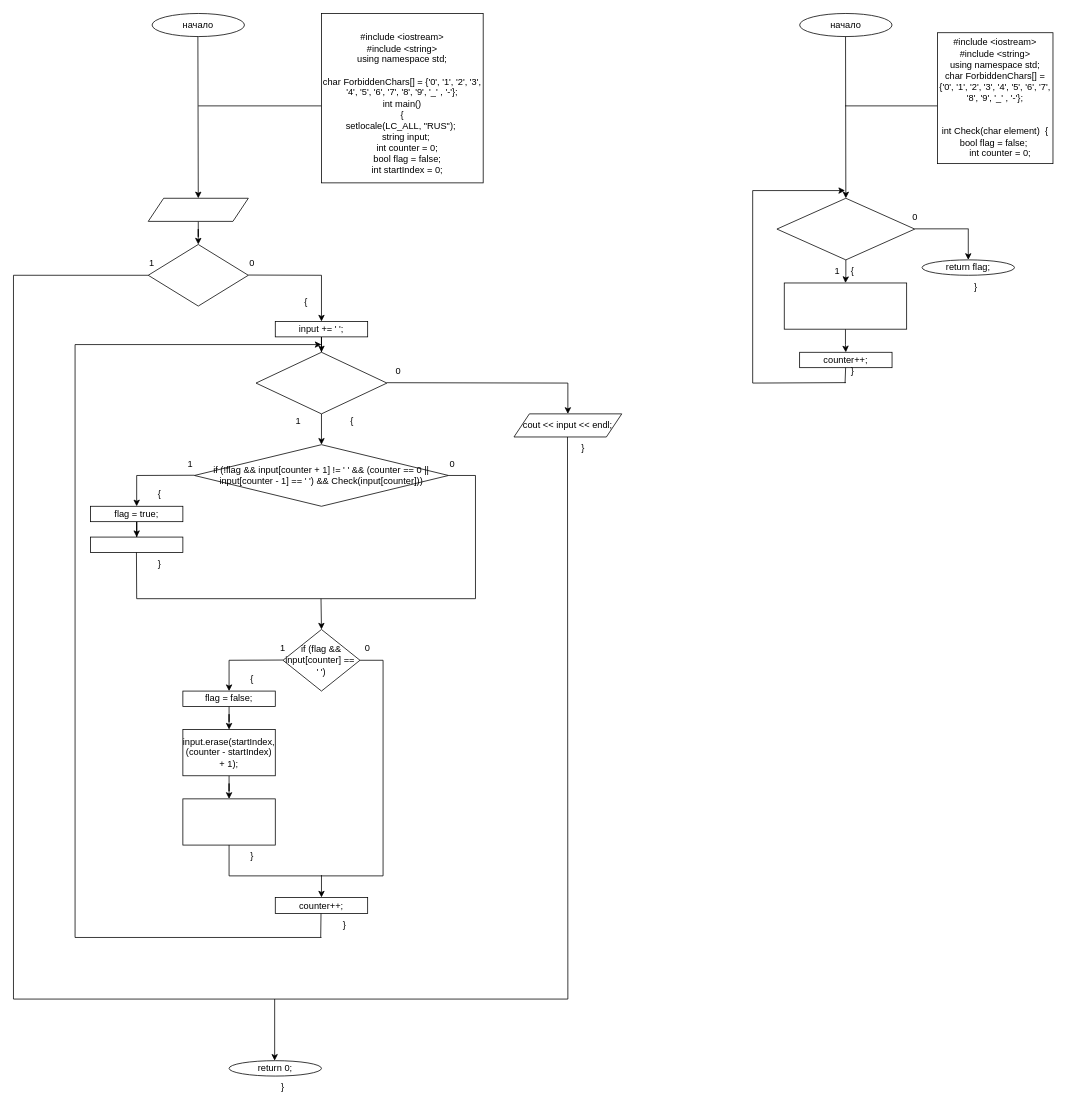
The diagram is 1066 pixels wide and 1113 high, and some of its shapes have lost their labels. Each missing label, with the box of its shape:
counter -= (counter - startIndex) + 1;: (182, 798, 275, 845)
flag = ForbiddenChars[counter] == element;: (783, 282, 907, 329)
getline(cin, input);: (147, 198, 248, 221)
if (input.size() == 0): (147, 244, 248, 306)
startIndex = counter;: (90, 536, 183, 552)
while (counter < 12 && !flag): (776, 198, 915, 260)
while (counter < input.size()): (255, 352, 387, 414)
